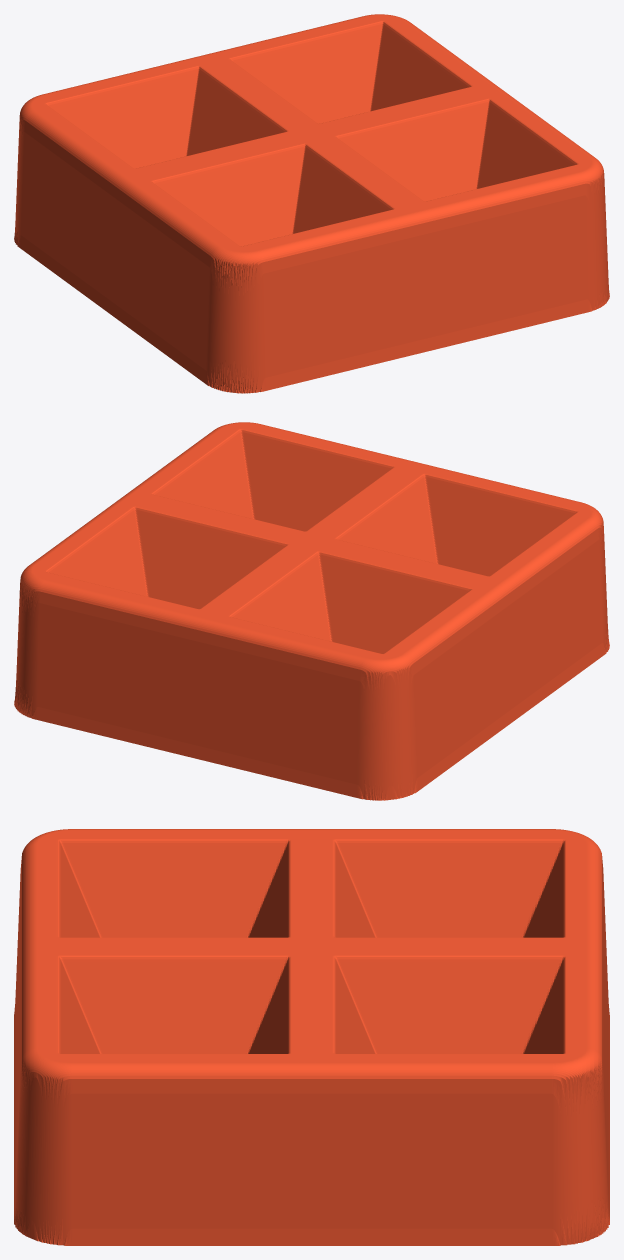
File: mold.glb
3 views of the same model, one above another, from view 1: azimuth 30°, elevation 25°; view 2: azimuth 150°, elevation 25°; view 3: azimuth 270°, elevation 25° (orthographic). The views are drawn at different scales.
Parts seen in each view (by area): view 1: geometry_0; view 2: geometry_0; view 3: geometry_0.
Boxes of the visible parts, x1=… form: geometry_0: x1=14, y1=14, x2=609, y2=393; geometry_0: x1=14, y1=422, x2=609, y2=800; geometry_0: x1=14, y1=829, x2=609, y2=1245.
Bounding box in the file's own units: 0.0932 × 0.0299 × 0.0932.
